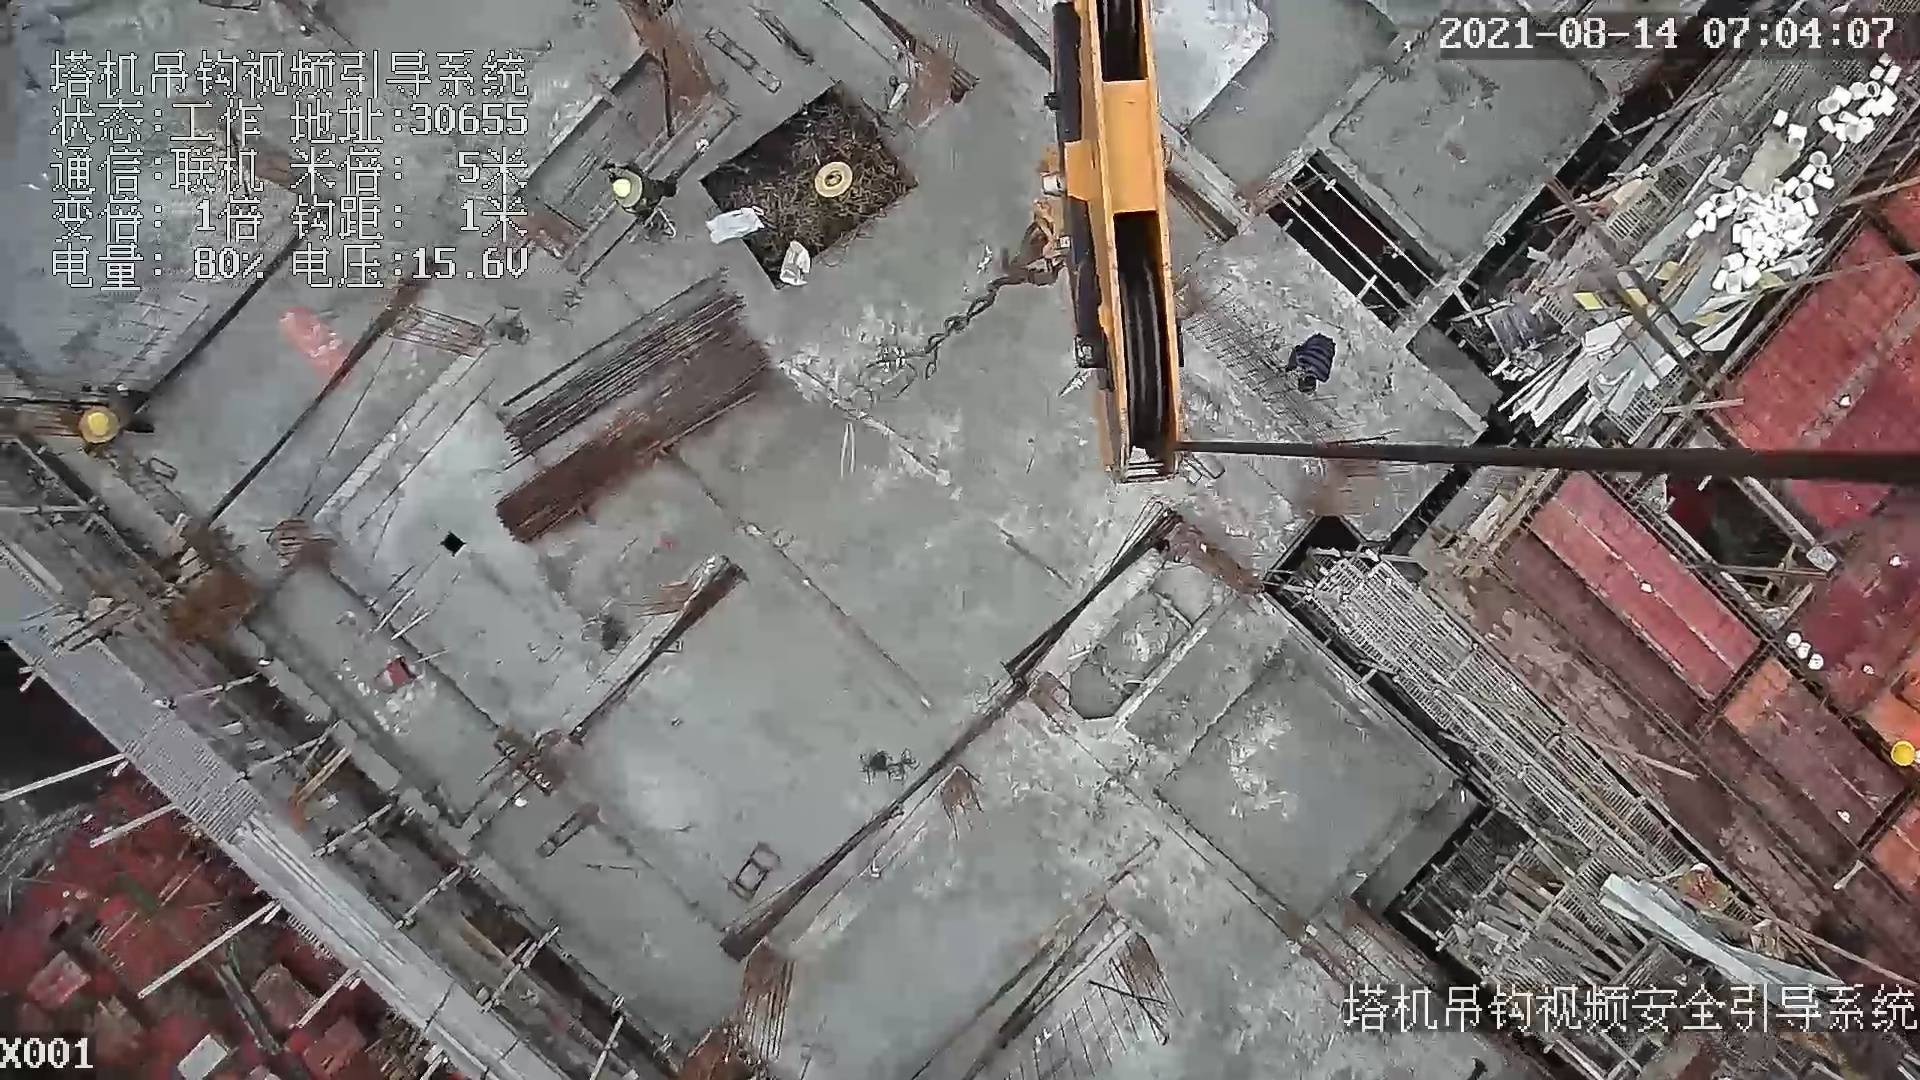helmet: (1891, 734, 1913, 773)
hook: (1019, 1, 1197, 483)
person: (603, 151, 677, 235), (1288, 325, 1341, 398)
